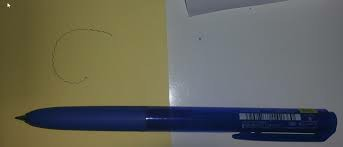pen: (5, 109, 343, 141)
